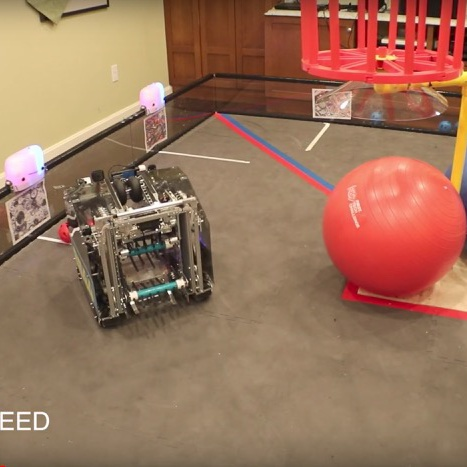ball: (56, 220, 72, 246), (434, 119, 454, 136), (369, 110, 383, 126)
robot: (54, 161, 219, 333)
yogaball: (320, 154, 467, 301)
